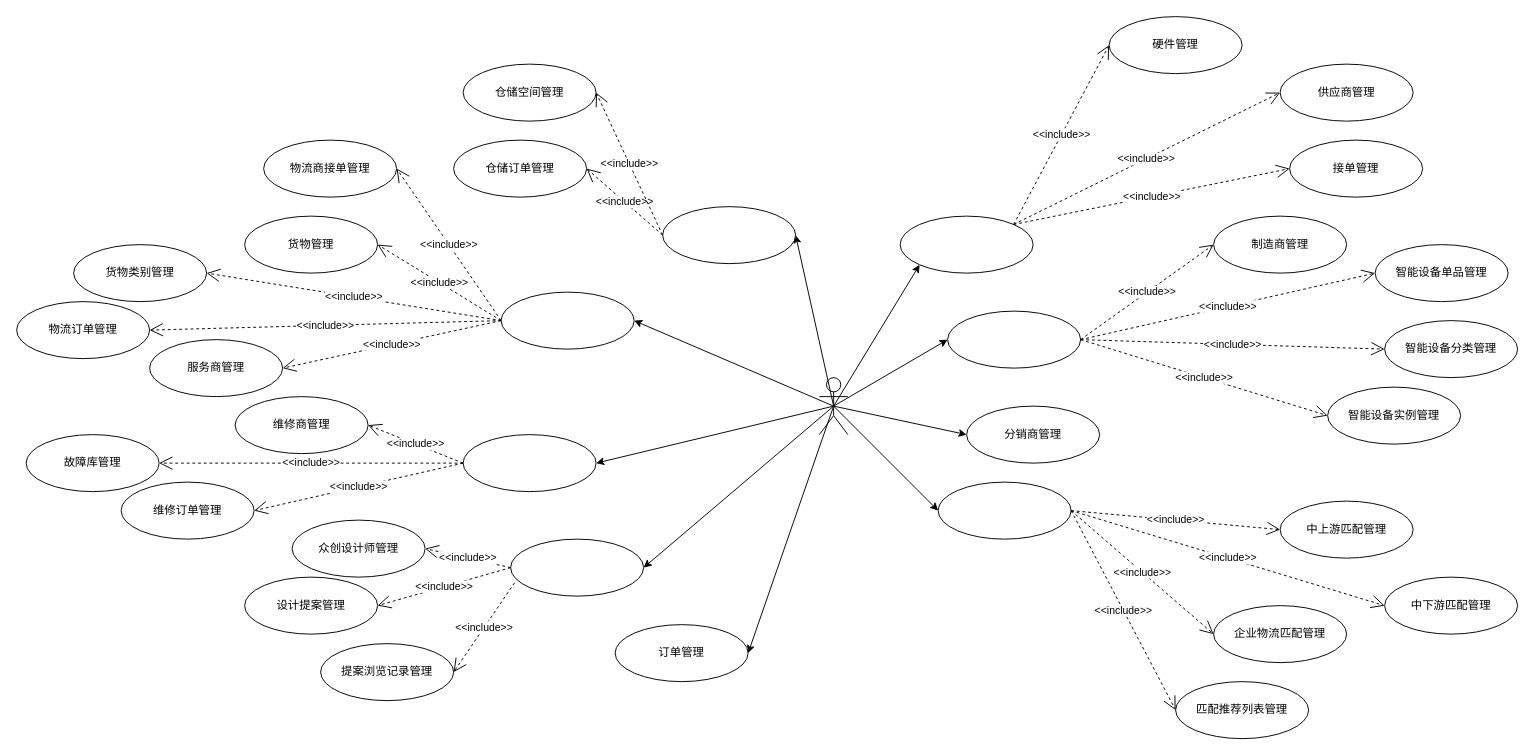
Some shapes in this 1534 by 755 pixel diagram are drawn without their labels. The shapes that lost their labels are listed below. From the top down, each one's centre as x and y in pixels, then its label:
[729,235]: 共享仓储管理
[966,244]: 原材料供应商管理
[567,320]: 物流服务商管理
[1014,339]: 智能设备制造商管理
[833,406]: 系统管理员
[529,463]: 维修服务商管理
[1004,510]: 匹配管理
[577,567]: 众创设计提案管理
